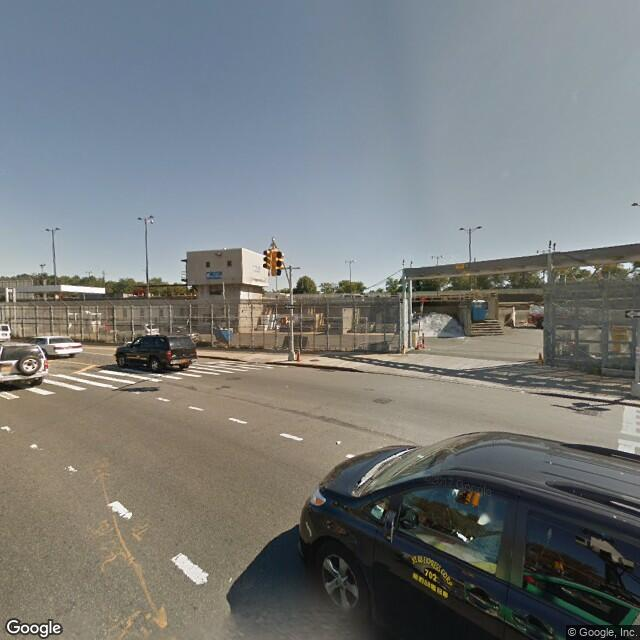litter: (332, 439, 342, 446)
